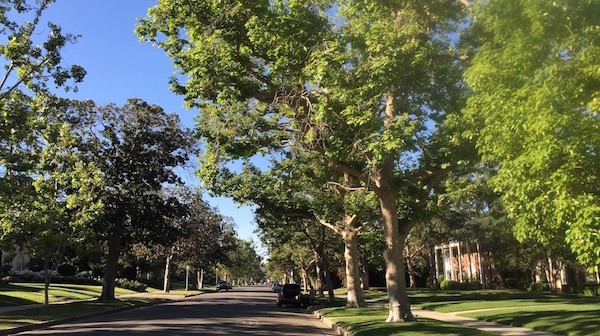tree: (45, 94, 179, 310)
